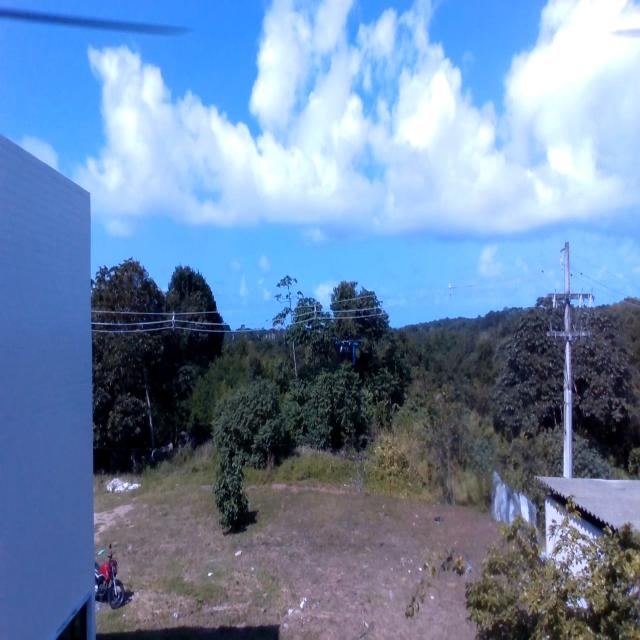-uav-: (326, 328, 367, 376)
